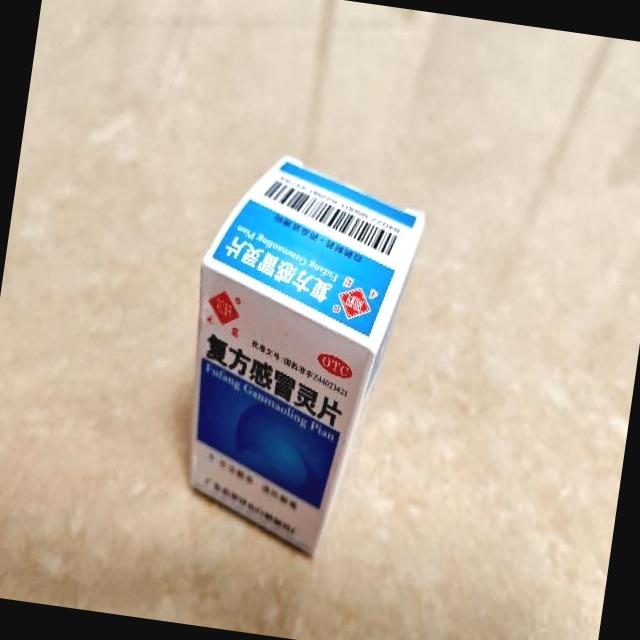box: (163, 146, 432, 568)
